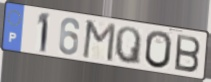1: (37, 12, 52, 55)
6: (57, 17, 81, 56)
B: (173, 33, 202, 74)
M: (80, 19, 117, 64)
O: (144, 29, 174, 70)
Q: (114, 25, 143, 67)
